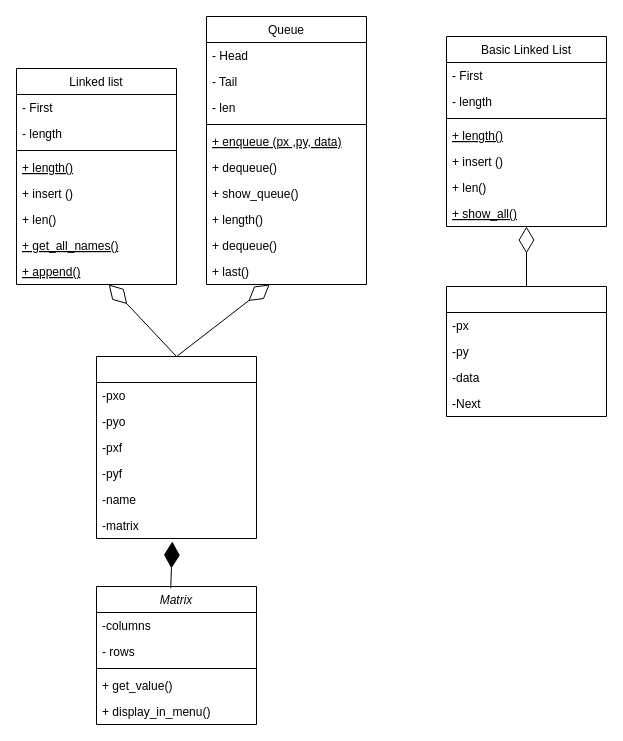
This 623x741 diagram has some shape labels left out. The box of each missing label's shape, as (x1, y1, x2, y2) in pixels:
Basic Node: (446, 286, 606, 416)
Node: (96, 356, 256, 538)
